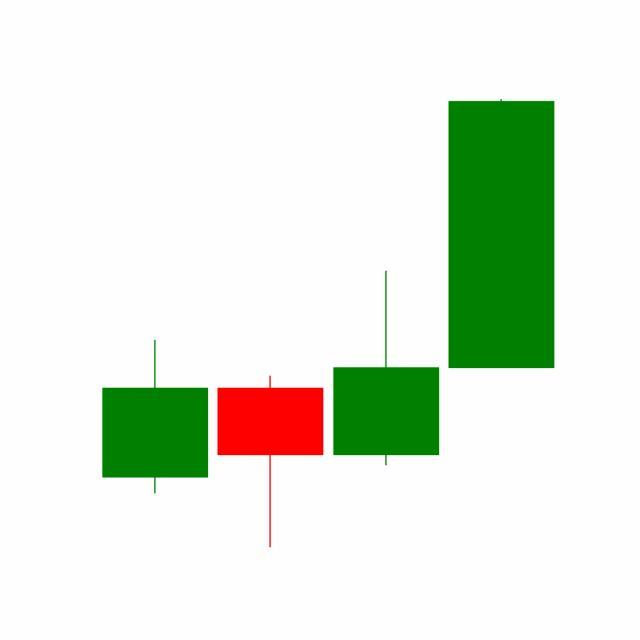Marubozu: (444, 96, 560, 371)
